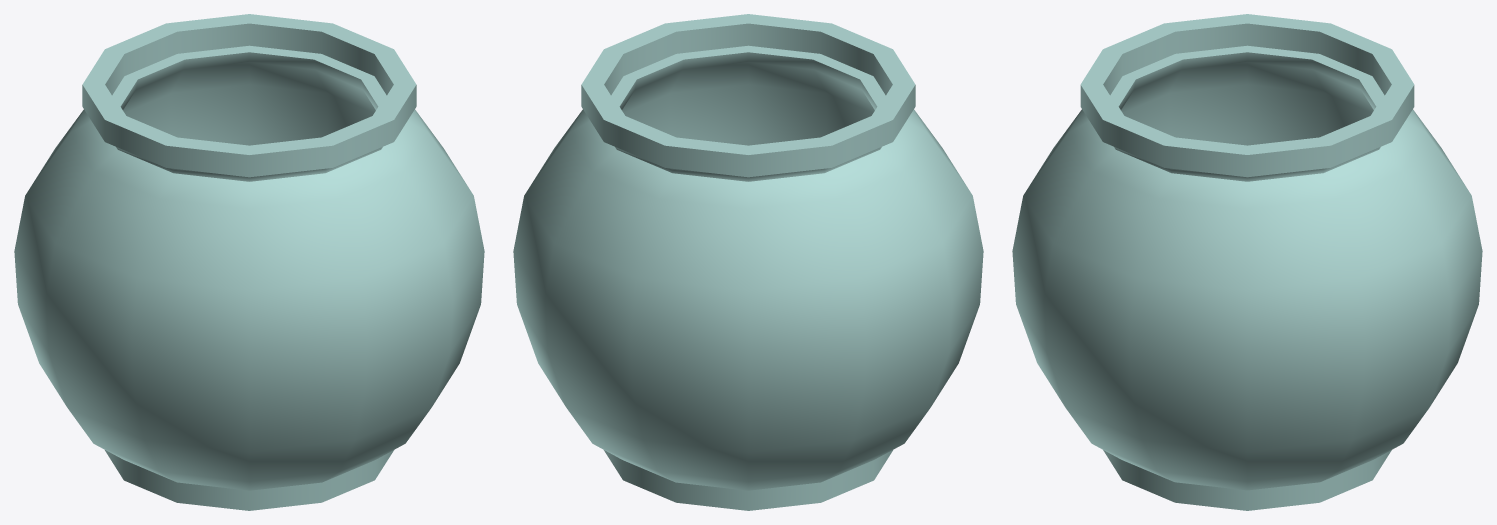
Rendered from VaseSmallNoshatter.fbx.
3 renders of one model, left to right at view 1: azimuth 30°, elevation 25°; view 2: azimuth 150°, elevation 25°; view 3: azimuth 270°, elevation 25°, orthographic.
Visible parts, largest first — view 1: VaseSmall; view 2: VaseSmall; view 3: VaseSmall.
Part boxes in pixels (left/top/right/bottom): VaseSmall: left=14, top=14, right=484, bottom=510; VaseSmall: left=513, top=14, right=983, bottom=510; VaseSmall: left=1012, top=14, right=1482, bottom=510.
Size of the model in its own units: 2.63 by 2.26 by 2.63.
